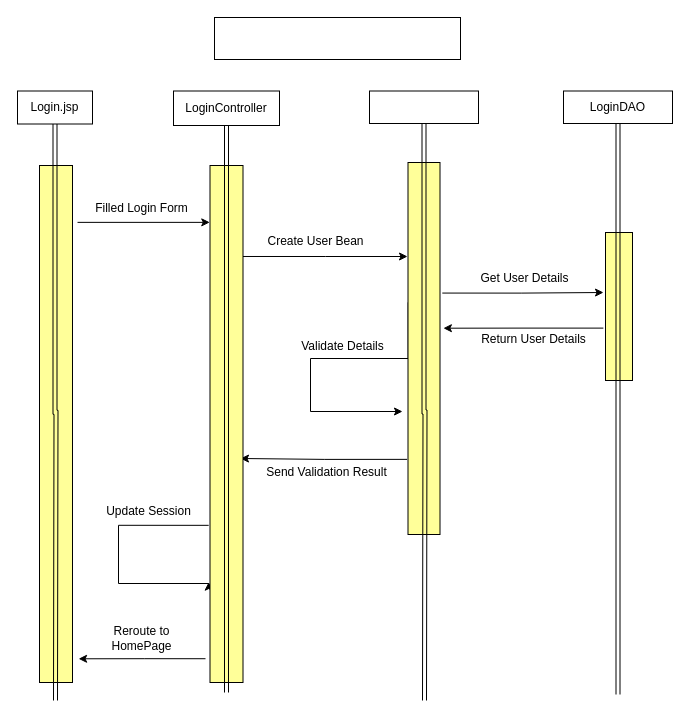
This 690x718 diagram has some shape labels left out. Each missing label, with the centre of its shape:
Login: the point at 337,38
LoginService: the point at 423,107
